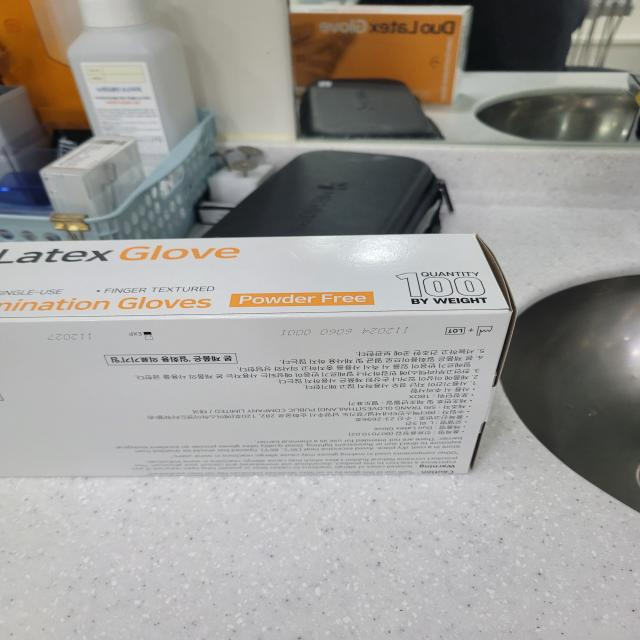glove: (0, 224, 546, 487)
